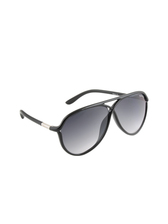glasses: (12, 85, 154, 158)
